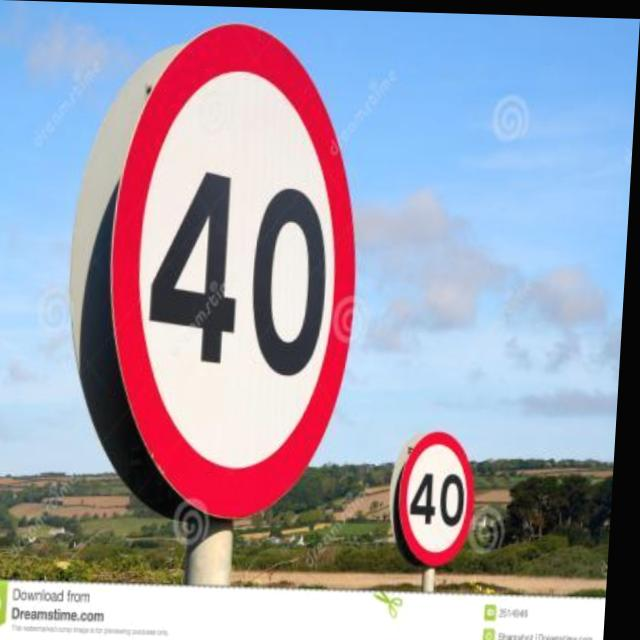limit40: (92, 13, 374, 524)
